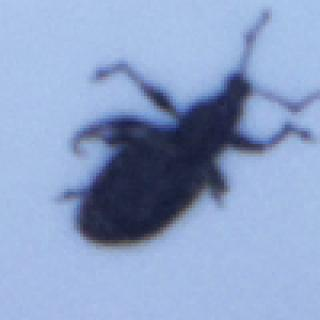bvw: (63, 3, 318, 248)
